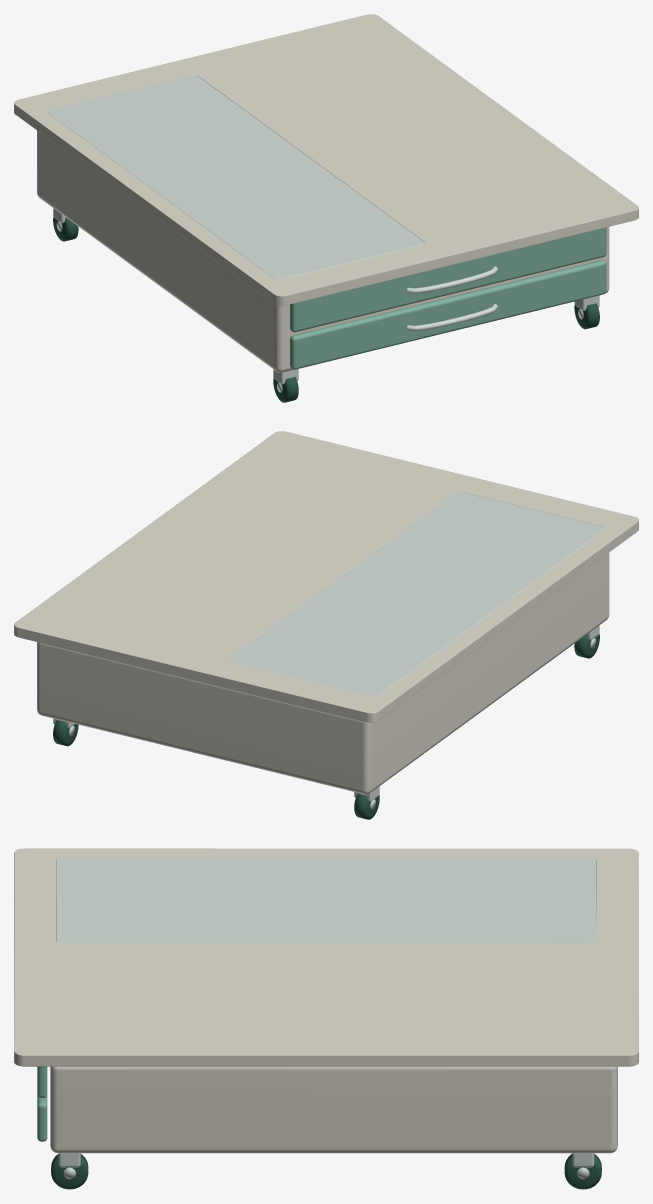
The model's file is instrument-workbench.glb.
The picture shows the model from 3 angles, top to bottom: view 1: azimuth 30°, elevation 25°; view 2: azimuth 150°, elevation 25°; view 3: azimuth 270°, elevation 25°; orthographic projection. The views are drawn at different scales.
Parts seen in each view (by area): view 1: instrument-workbench | material-batched geometry; view 2: instrument-workbench | material-batched geometry; view 3: instrument-workbench | material-batched geometry.
Part boxes in pixels (bbox=[...]): instrument-workbench | material-batched geometry: bbox=[14, 14, 638, 402]; instrument-workbench | material-batched geometry: bbox=[14, 431, 638, 819]; instrument-workbench | material-batched geometry: bbox=[14, 848, 638, 1189].
Bounding box in the file's own units: 2.9 × 0.975 × 3.7.
